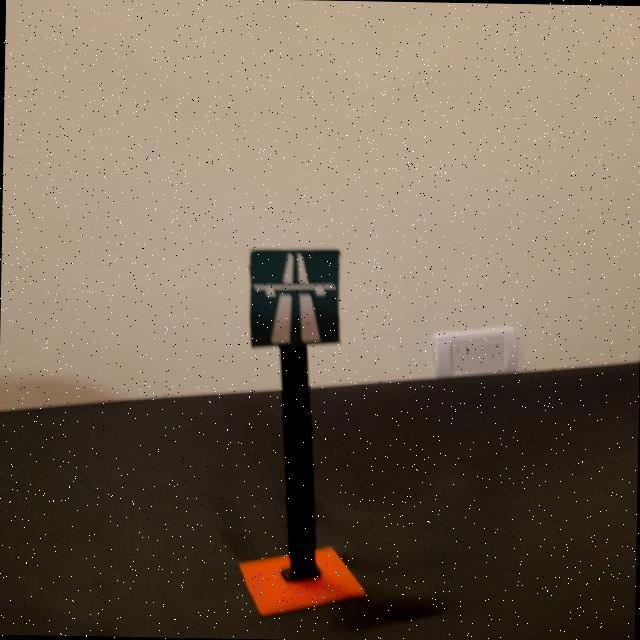highway_entrance: (252, 246, 342, 350)
